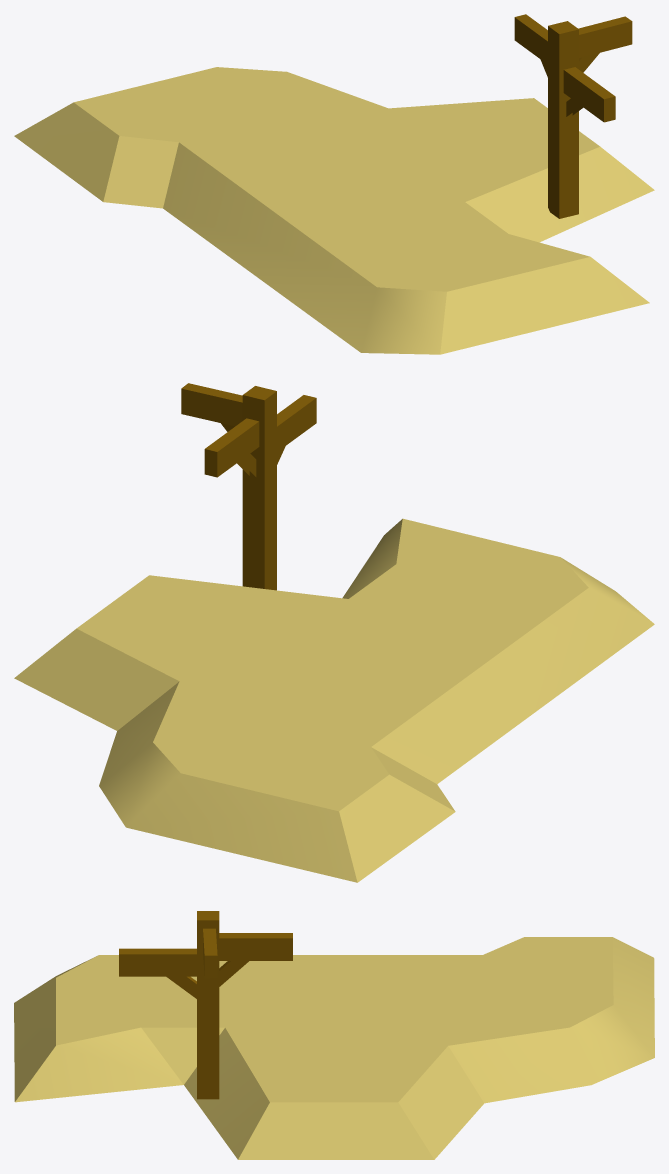
The model's file is ThreeWay.fbx.
3 renders of one model, top to bottom at view 1: azimuth 30°, elevation 25°; view 2: azimuth 150°, elevation 25°; view 3: azimuth 270°, elevation 25°, orthographic. The views are drawn at different scales.
Visible parts, largest first — view 1: polySurface15; view 2: polySurface15; view 3: polySurface15.
Boxes of the visible parts, left/top/right/bottom form: polySurface15: left=14, top=14, right=654, bottom=354; polySurface15: left=14, top=383, right=654, bottom=882; polySurface15: left=14, top=911, right=654, bottom=1159.
Size of the model in its own units: 111 by 49.98 by 150.
1 material, 1 textured.
